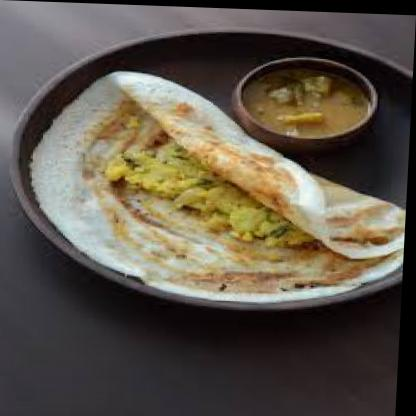dosa: (26, 67, 413, 304)
